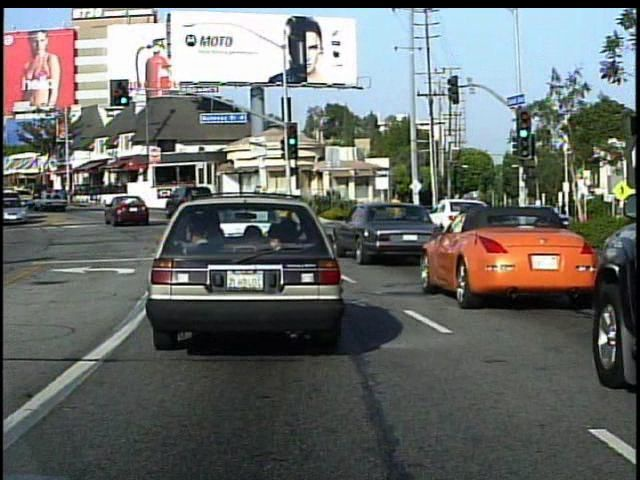person: (386, 191, 406, 230), (402, 192, 420, 233)
